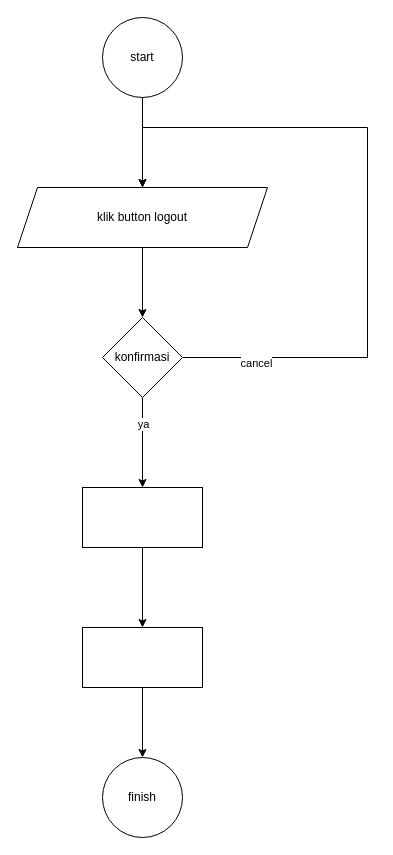
This 393x855 diagram has some shape labels left out. Here are the shapes that lost their labels. From the top down, the box of each, then its label:
(82, 486, 202, 548): hapus cookie
(82, 626, 202, 688): kembalikan ke halaman utama
